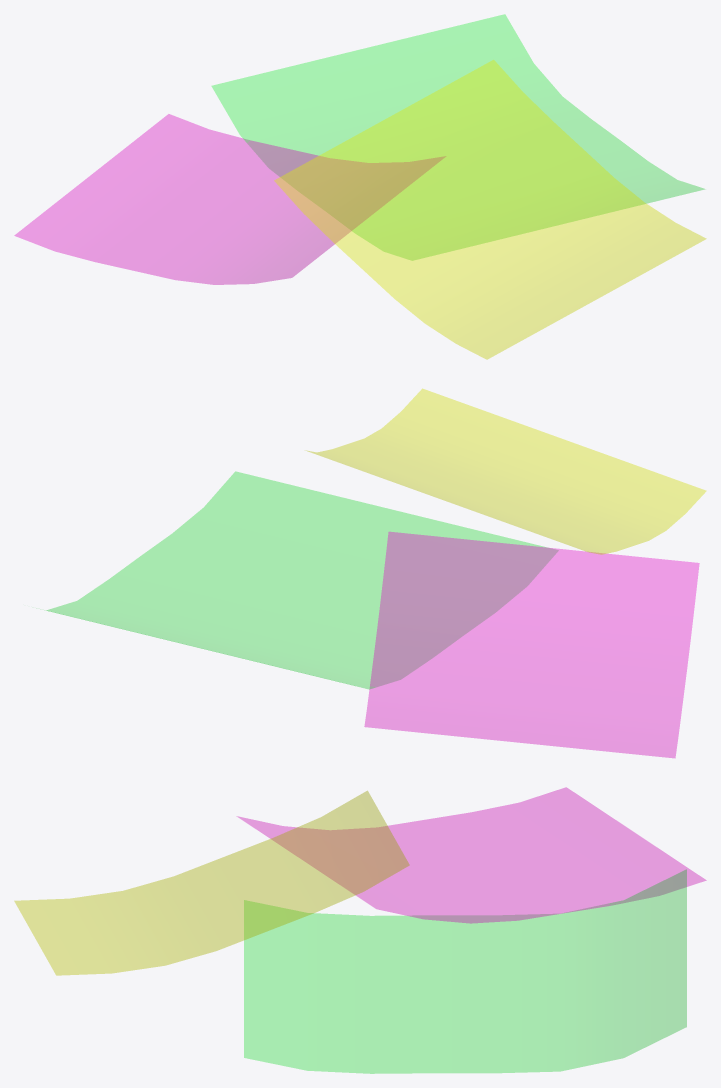
Rendered from LSD1.fbx.
3 renders of one model, top to bottom at view 1: azimuth 30°, elevation 25°; view 2: azimuth 150°, elevation 25°; view 3: azimuth 270°, elevation 25°, orthographic. The views are drawn at different scales.
Parts seen in each view (by area): view 1: pPlane3, pPlane2, pPlane1; view 2: pPlane1, pPlane2, pPlane3; view 3: pPlane2, pPlane1, pPlane3.
Part boxes in pixels (left/top/right/bottom): pPlane3: left=274, top=60, right=706, bottom=359; pPlane2: left=212, top=14, right=704, bottom=260; pPlane1: left=14, top=114, right=445, bottom=284; pPlane1: left=364, top=532, right=699, bottom=757; pPlane2: left=46, top=471, right=558, bottom=689; pPlane3: left=306, top=388, right=705, bottom=554; pPlane2: left=244, top=869, right=686, bottom=1073; pPlane1: left=237, top=787, right=706, bottom=923; pPlane3: left=14, top=791, right=409, bottom=975.
Bounding box in the file's own units: 2.62 × 0.6113 × 2.62.
